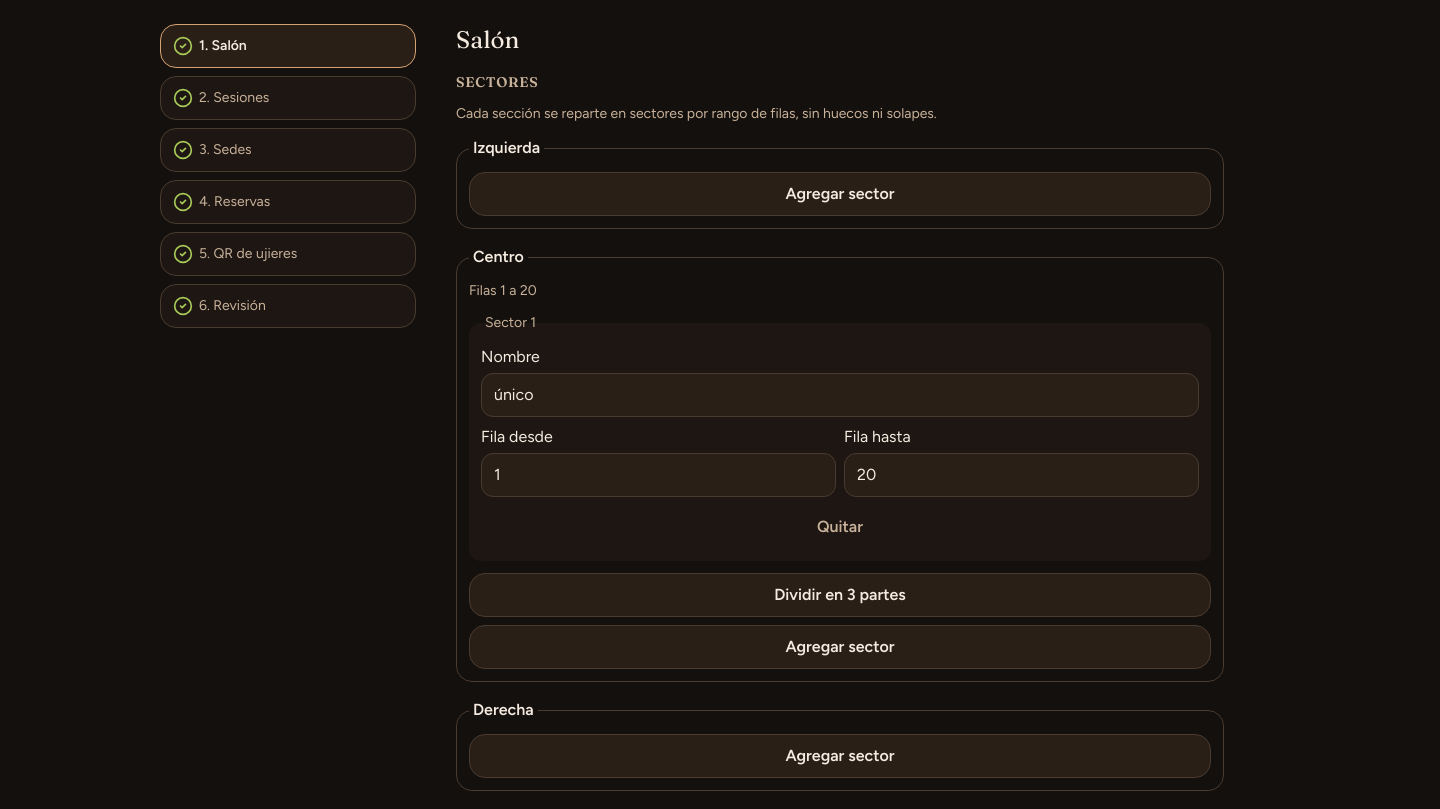
SalonPaso: sectores › con SECTORES_CON_ASIGNACIONES muestra el motivo, un enlace a Reservas y no cambia el formulario
Step 1. Replace the text in the field labelled "Nombre" with "otro" → coordinates (840, 395), box top-left (481, 373), bottom-right (1199, 417)
(page scrolled)
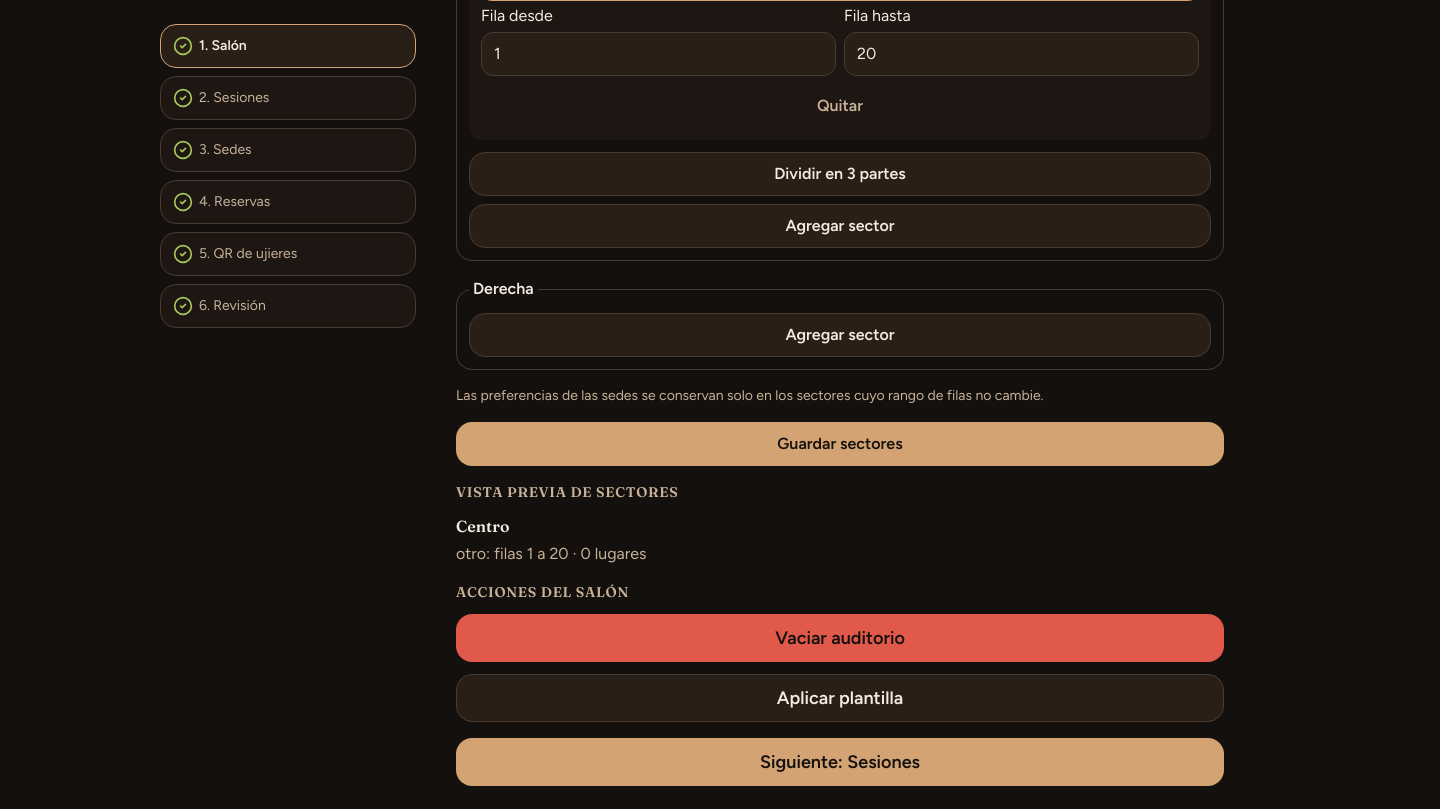
Step 2. Click the button "Guardar sectores" → coordinates (840, 444), box top-left (456, 422), bottom-right (1224, 466)
(page scrolled)
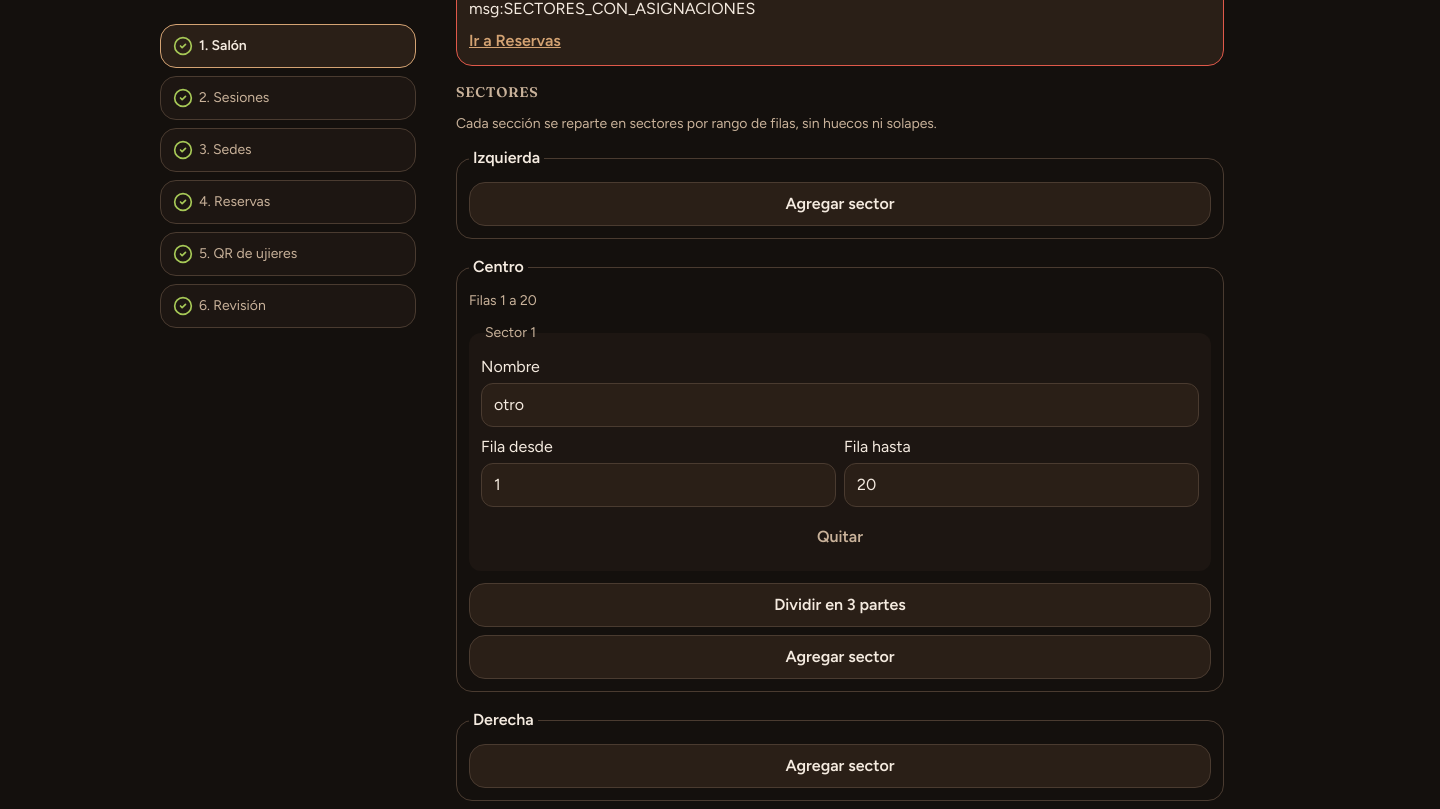
Now the text "msg:SECTORES_CON_ASIGNACIONES" is shown, box top-left (469, 0), bottom-right (755, 18)
